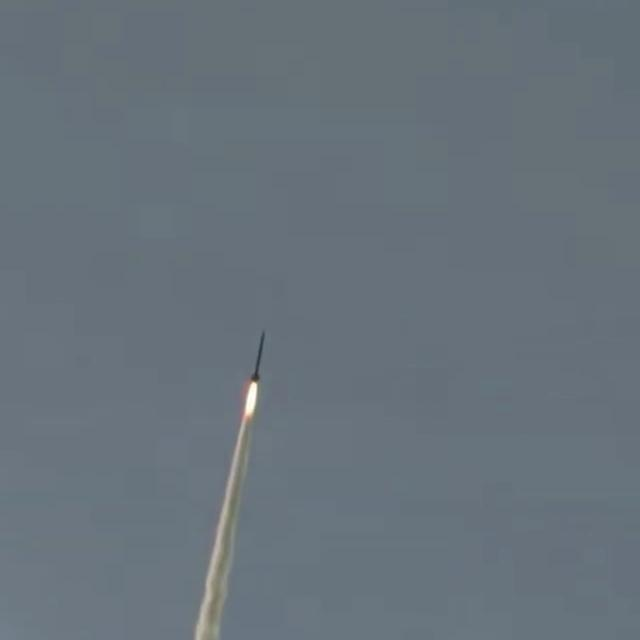rocket: (249, 332, 264, 383)
smoke_trail_with_rocket: (192, 333, 263, 640)
